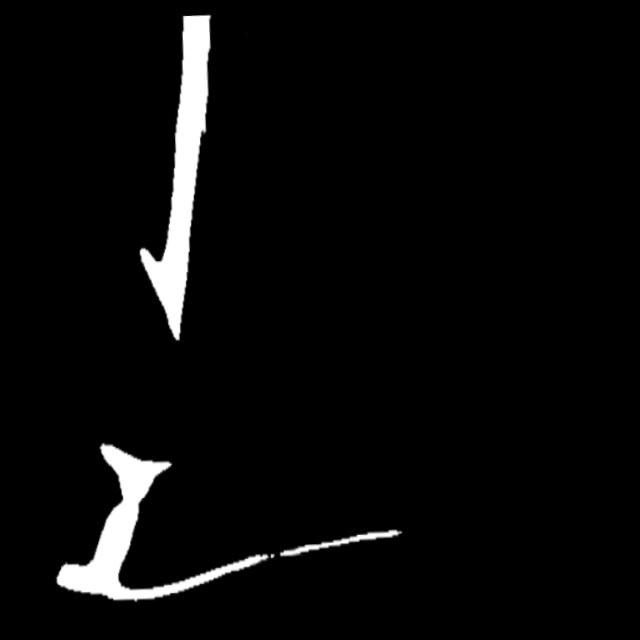inf: (264, 538, 298, 569)
